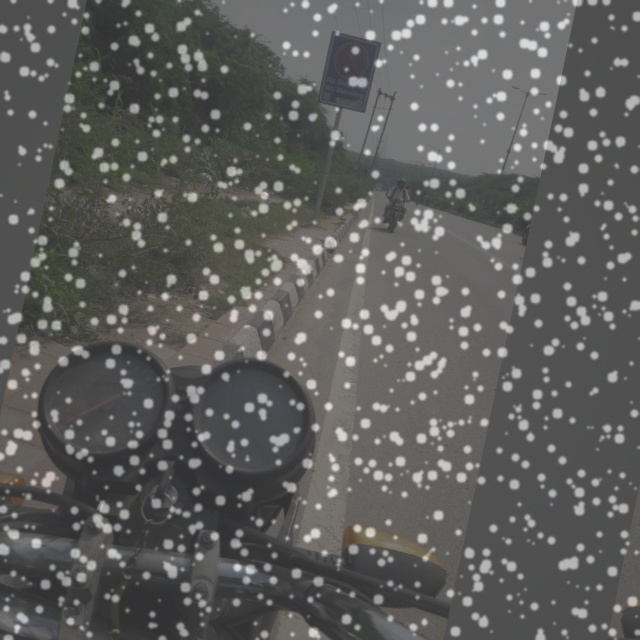No_Stopping_or_Standing: (323, 32, 383, 90)
